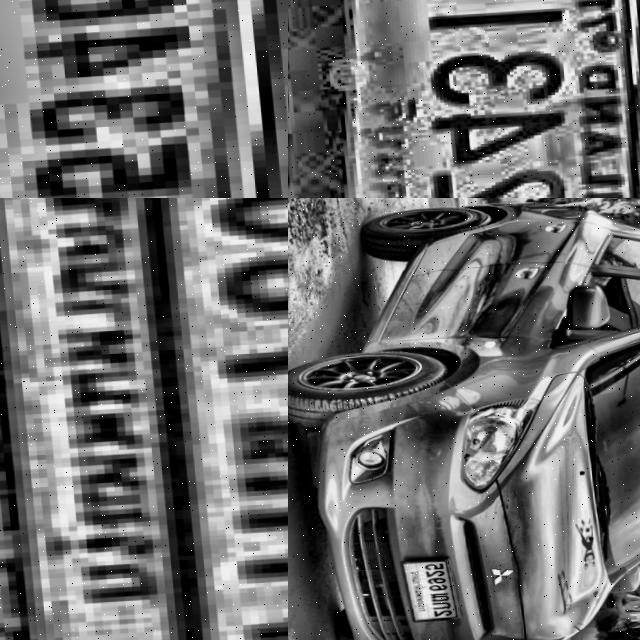license-plate: (0, 198, 288, 640), (288, 0, 640, 198), (0, 0, 288, 198), (394, 554, 457, 624)
